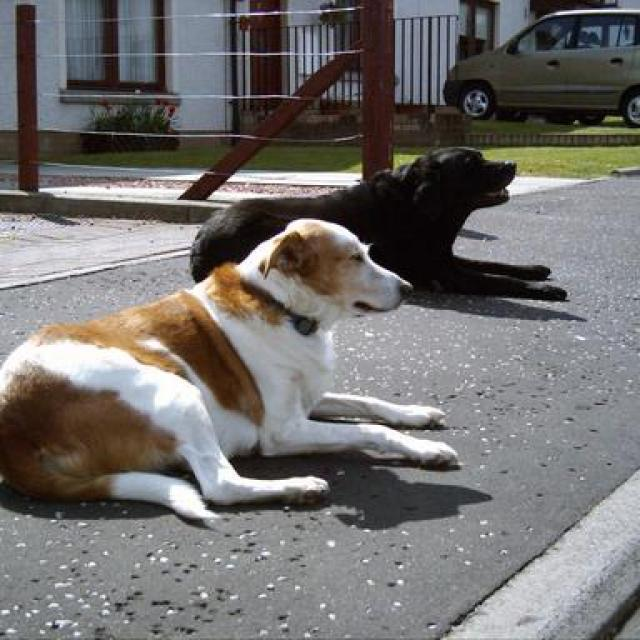adult_dog: (0, 215, 461, 523), (190, 149, 569, 302)
